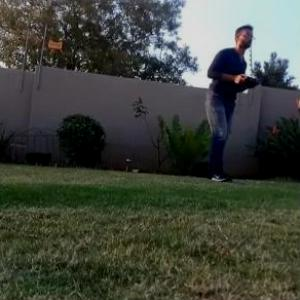follow: (193, 13, 263, 188)
